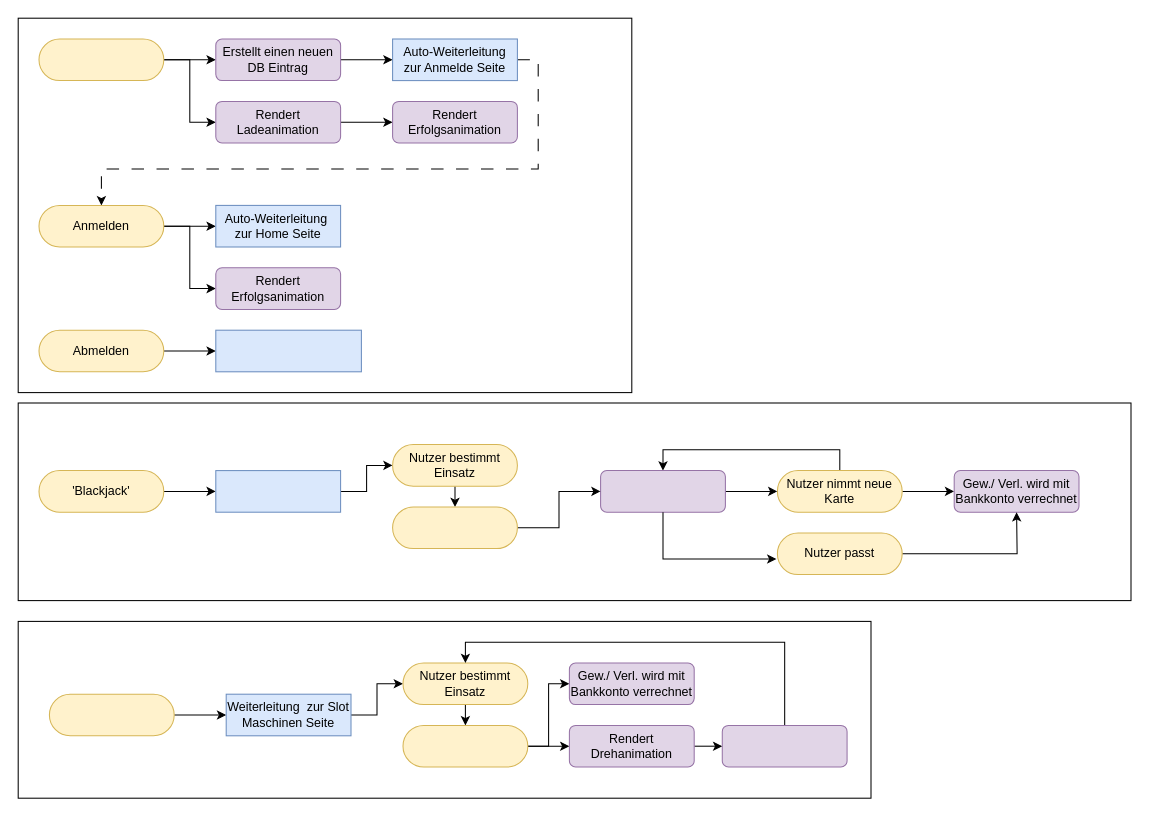
This 1149x816 diagram has some shape labels left out. Here are the shapes that lost their labels. From the top down, the box of each, then its label:
(38, 38, 164, 81): Regestrieren
(215, 329, 361, 372): Auto-Weiterleitung zur Willkommens Seite
(215, 470, 341, 512): Weiterleitung zur Blackjack Seite
(600, 470, 725, 512): Karten werden verteilt
(392, 506, 517, 549): 'Spielen'
(48, 693, 174, 736): 'Slot Maschine'
(402, 724, 528, 767): 'Drehen'
(721, 724, 847, 767): Zeigt Resultat
